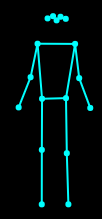mountain: (13, 10, 95, 208)
